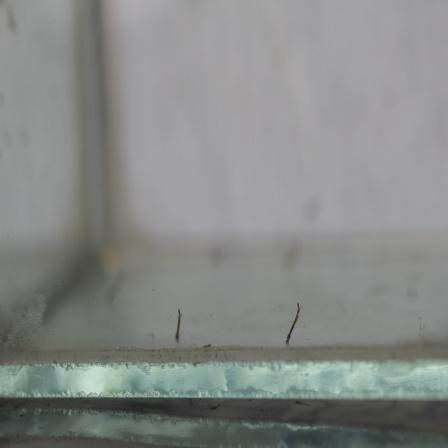Jentik-Nyamuk: (285, 300, 304, 346), (173, 306, 187, 346)
